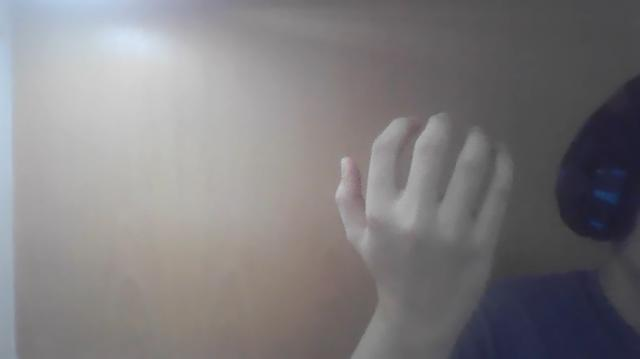backword: (333, 109, 515, 356)
